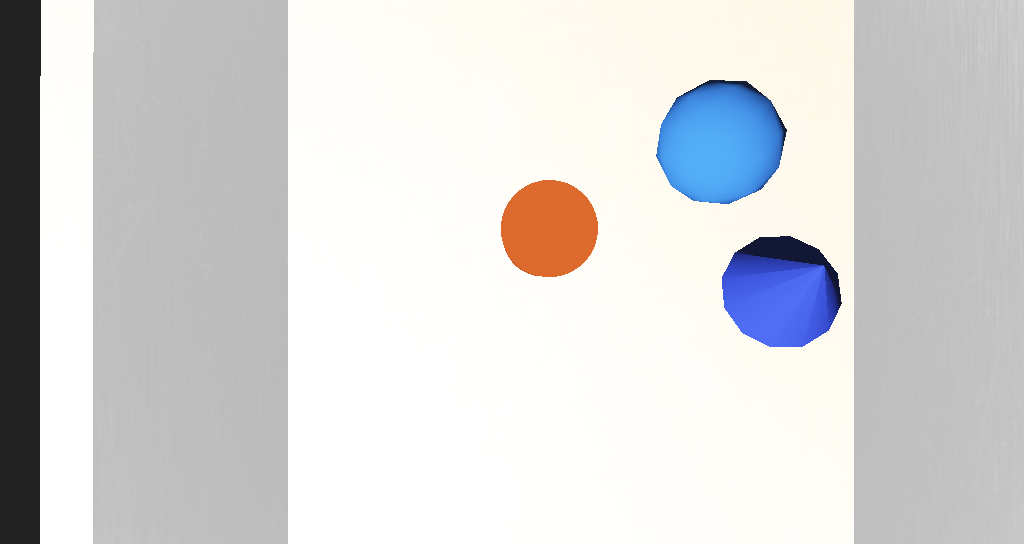cone: (468, 236, 515, 270)
cylinder: (573, 241, 667, 303)
sphere: (549, 203, 610, 246)
